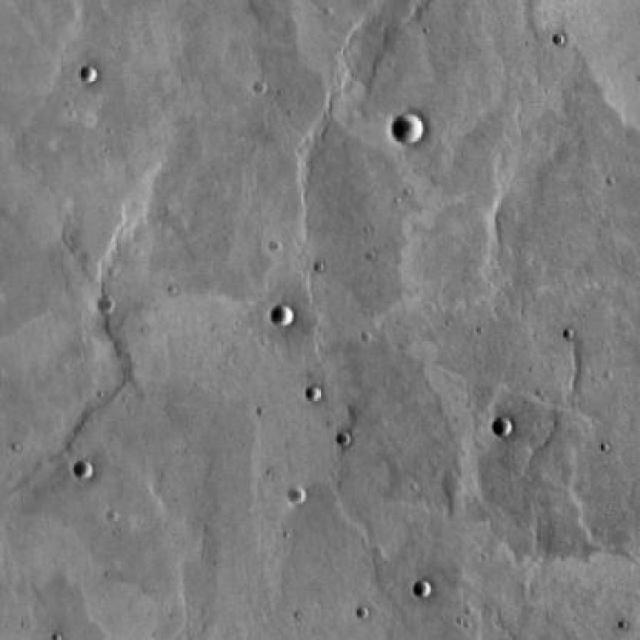crater: (395, 114, 427, 144), (272, 305, 294, 327), (494, 418, 515, 440), (288, 486, 309, 506), (79, 66, 99, 86), (333, 428, 352, 447), (416, 579, 432, 596), (78, 462, 94, 478), (98, 298, 114, 314), (307, 388, 322, 404)
